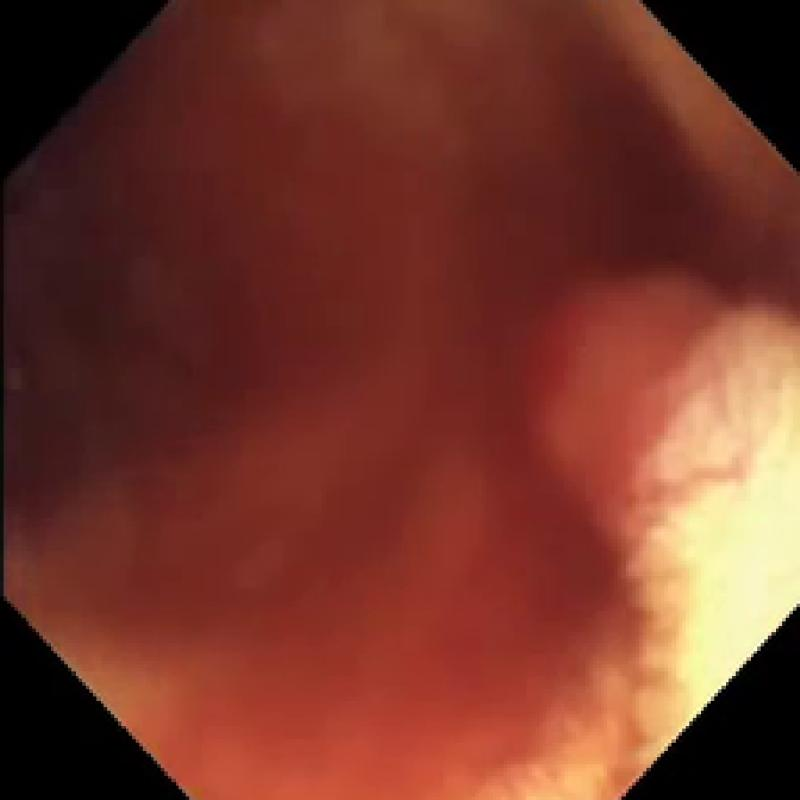bleeding: (0, 0, 776, 800)
